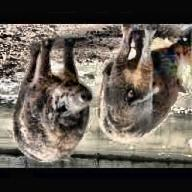boar: (97, 24, 186, 144), (12, 39, 92, 164)
